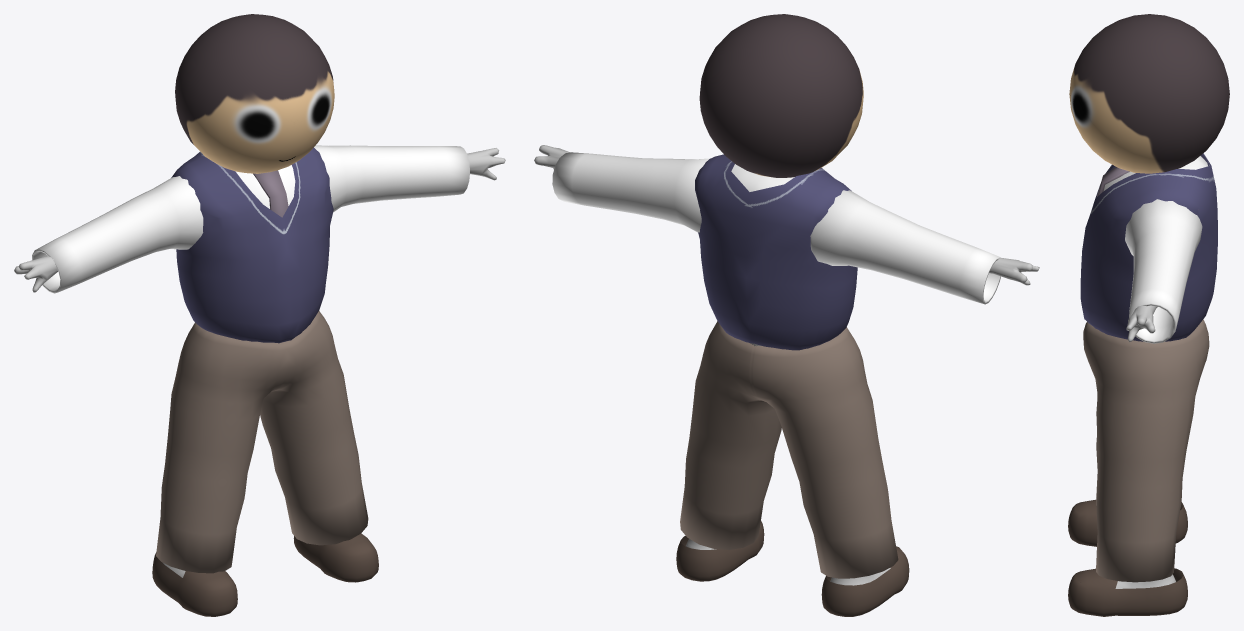
File: character_school uniform.fbx
3 views of the same model, side by side, from view 1: azimuth 30°, elevation 25°; view 2: azimuth 150°, elevation 25°; view 3: azimuth 270°, elevation 25° (orthographic). The views are drawn at different scales.
Parts seen in each view (by area): view 1: BODY.019, HEAD.020; view 2: BODY.019, HEAD.020; view 3: BODY.019, HEAD.020.
Boxes of the visible parts, x1,y1,x2,y2 form: BODY.019: (14, 145, 505, 616); HEAD.020: (175, 14, 334, 173); BODY.019: (534, 145, 1039, 616); HEAD.020: (699, 14, 863, 177); BODY.019: (1068, 153, 1217, 616); HEAD.020: (1069, 14, 1229, 173).
Size of the model in its own units: 377 by 414 by 110.
